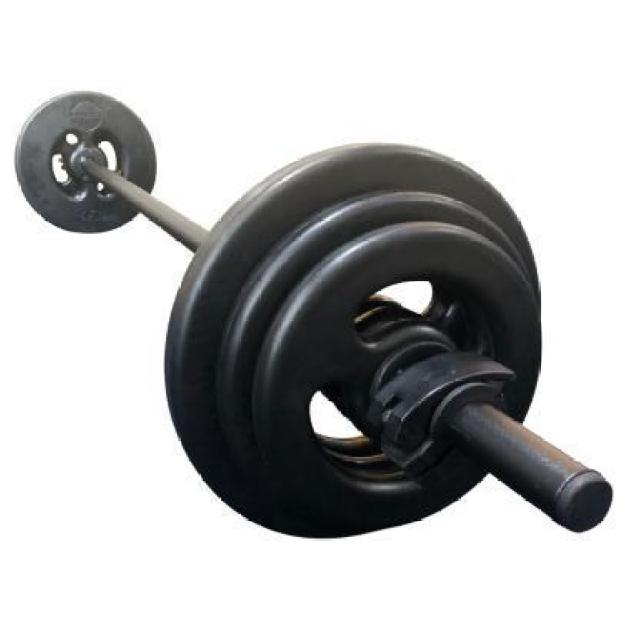barbell: (159, 136, 623, 547)
